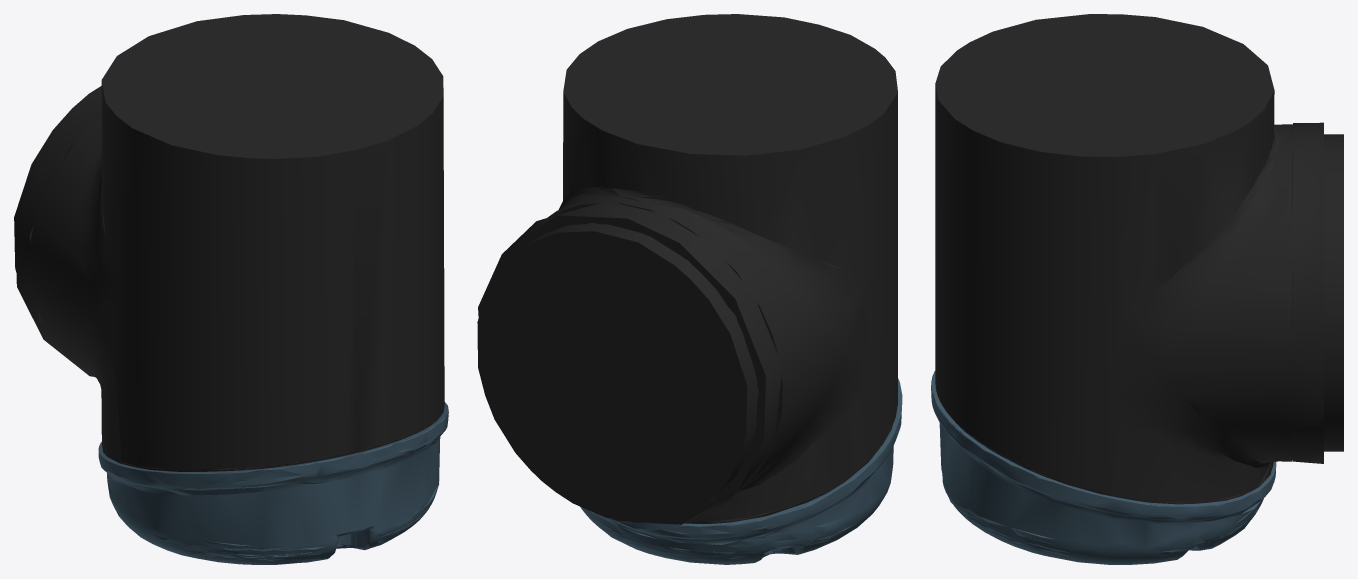
Rendered from wrist2.obj.
3 views of the same model, side by side, from view 1: azimuth 30°, elevation 25°; view 2: azimuth 150°, elevation 25°; view 3: azimuth 270°, elevation 25° (orthographic). The views are drawn at different scales.
Visible parts, largest first — view 1: node2_Part__Feature029, node0_Part__Feature031, node1_Part__Feature030; view 2: node2_Part__Feature029, node0_Part__Feature031, node1_Part__Feature030; view 3: node2_Part__Feature029, node0_Part__Feature031, node1_Part__Feature030.
Boxes of the visible parts, bbox=[...] form: node2_Part__Feature029: bbox=[14, 14, 444, 471]; node0_Part__Feature031: bbox=[98, 402, 448, 564]; node1_Part__Feature030: bbox=[15, 88, 101, 376]; node2_Part__Feature029: bbox=[477, 14, 897, 523]; node0_Part__Feature031: bbox=[580, 378, 902, 564]; node1_Part__Feature030: bbox=[478, 201, 782, 524]; node2_Part__Feature029: bbox=[935, 14, 1343, 504]; node0_Part__Feature031: bbox=[931, 371, 1276, 564]; node1_Part__Feature030: bbox=[1293, 122, 1323, 463].
Size of the model in its own units: 0.0644 by 0.0887 by 0.0768.
